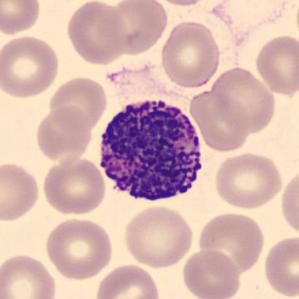Basophil: (92, 90, 209, 209)
RBC: (120, 204, 196, 270), (42, 215, 115, 281), (210, 65, 278, 134), (158, 19, 223, 90), (196, 210, 267, 274), (212, 150, 285, 210), (64, 0, 128, 66), (40, 154, 108, 216), (0, 32, 62, 100), (98, 0, 170, 57), (188, 89, 252, 153), (46, 74, 109, 132), (33, 104, 93, 162), (179, 247, 242, 299), (252, 32, 299, 97), (0, 251, 59, 299), (0, 160, 43, 223), (93, 261, 162, 299), (262, 234, 298, 298), (0, 0, 42, 37), (278, 166, 298, 240), (151, 0, 215, 7)
